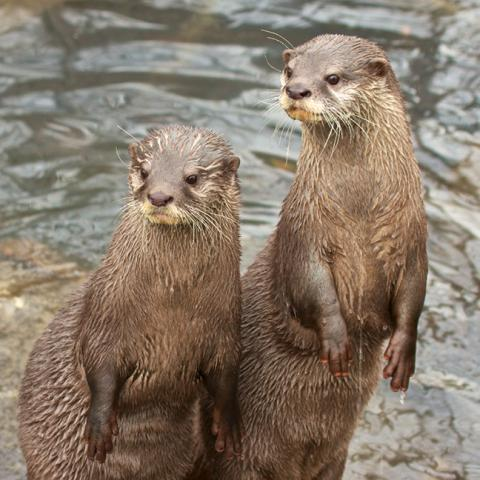otter: (242, 10, 438, 480), (31, 104, 240, 480)
